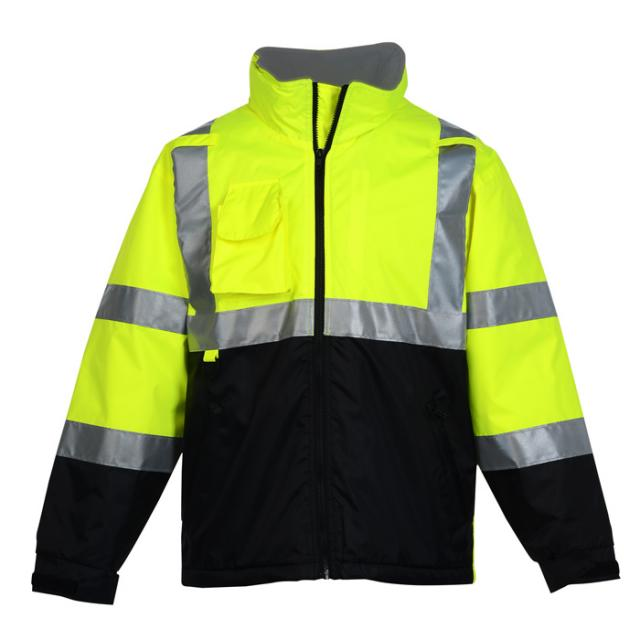Reflective-Jacket: (51, 42, 614, 588)
